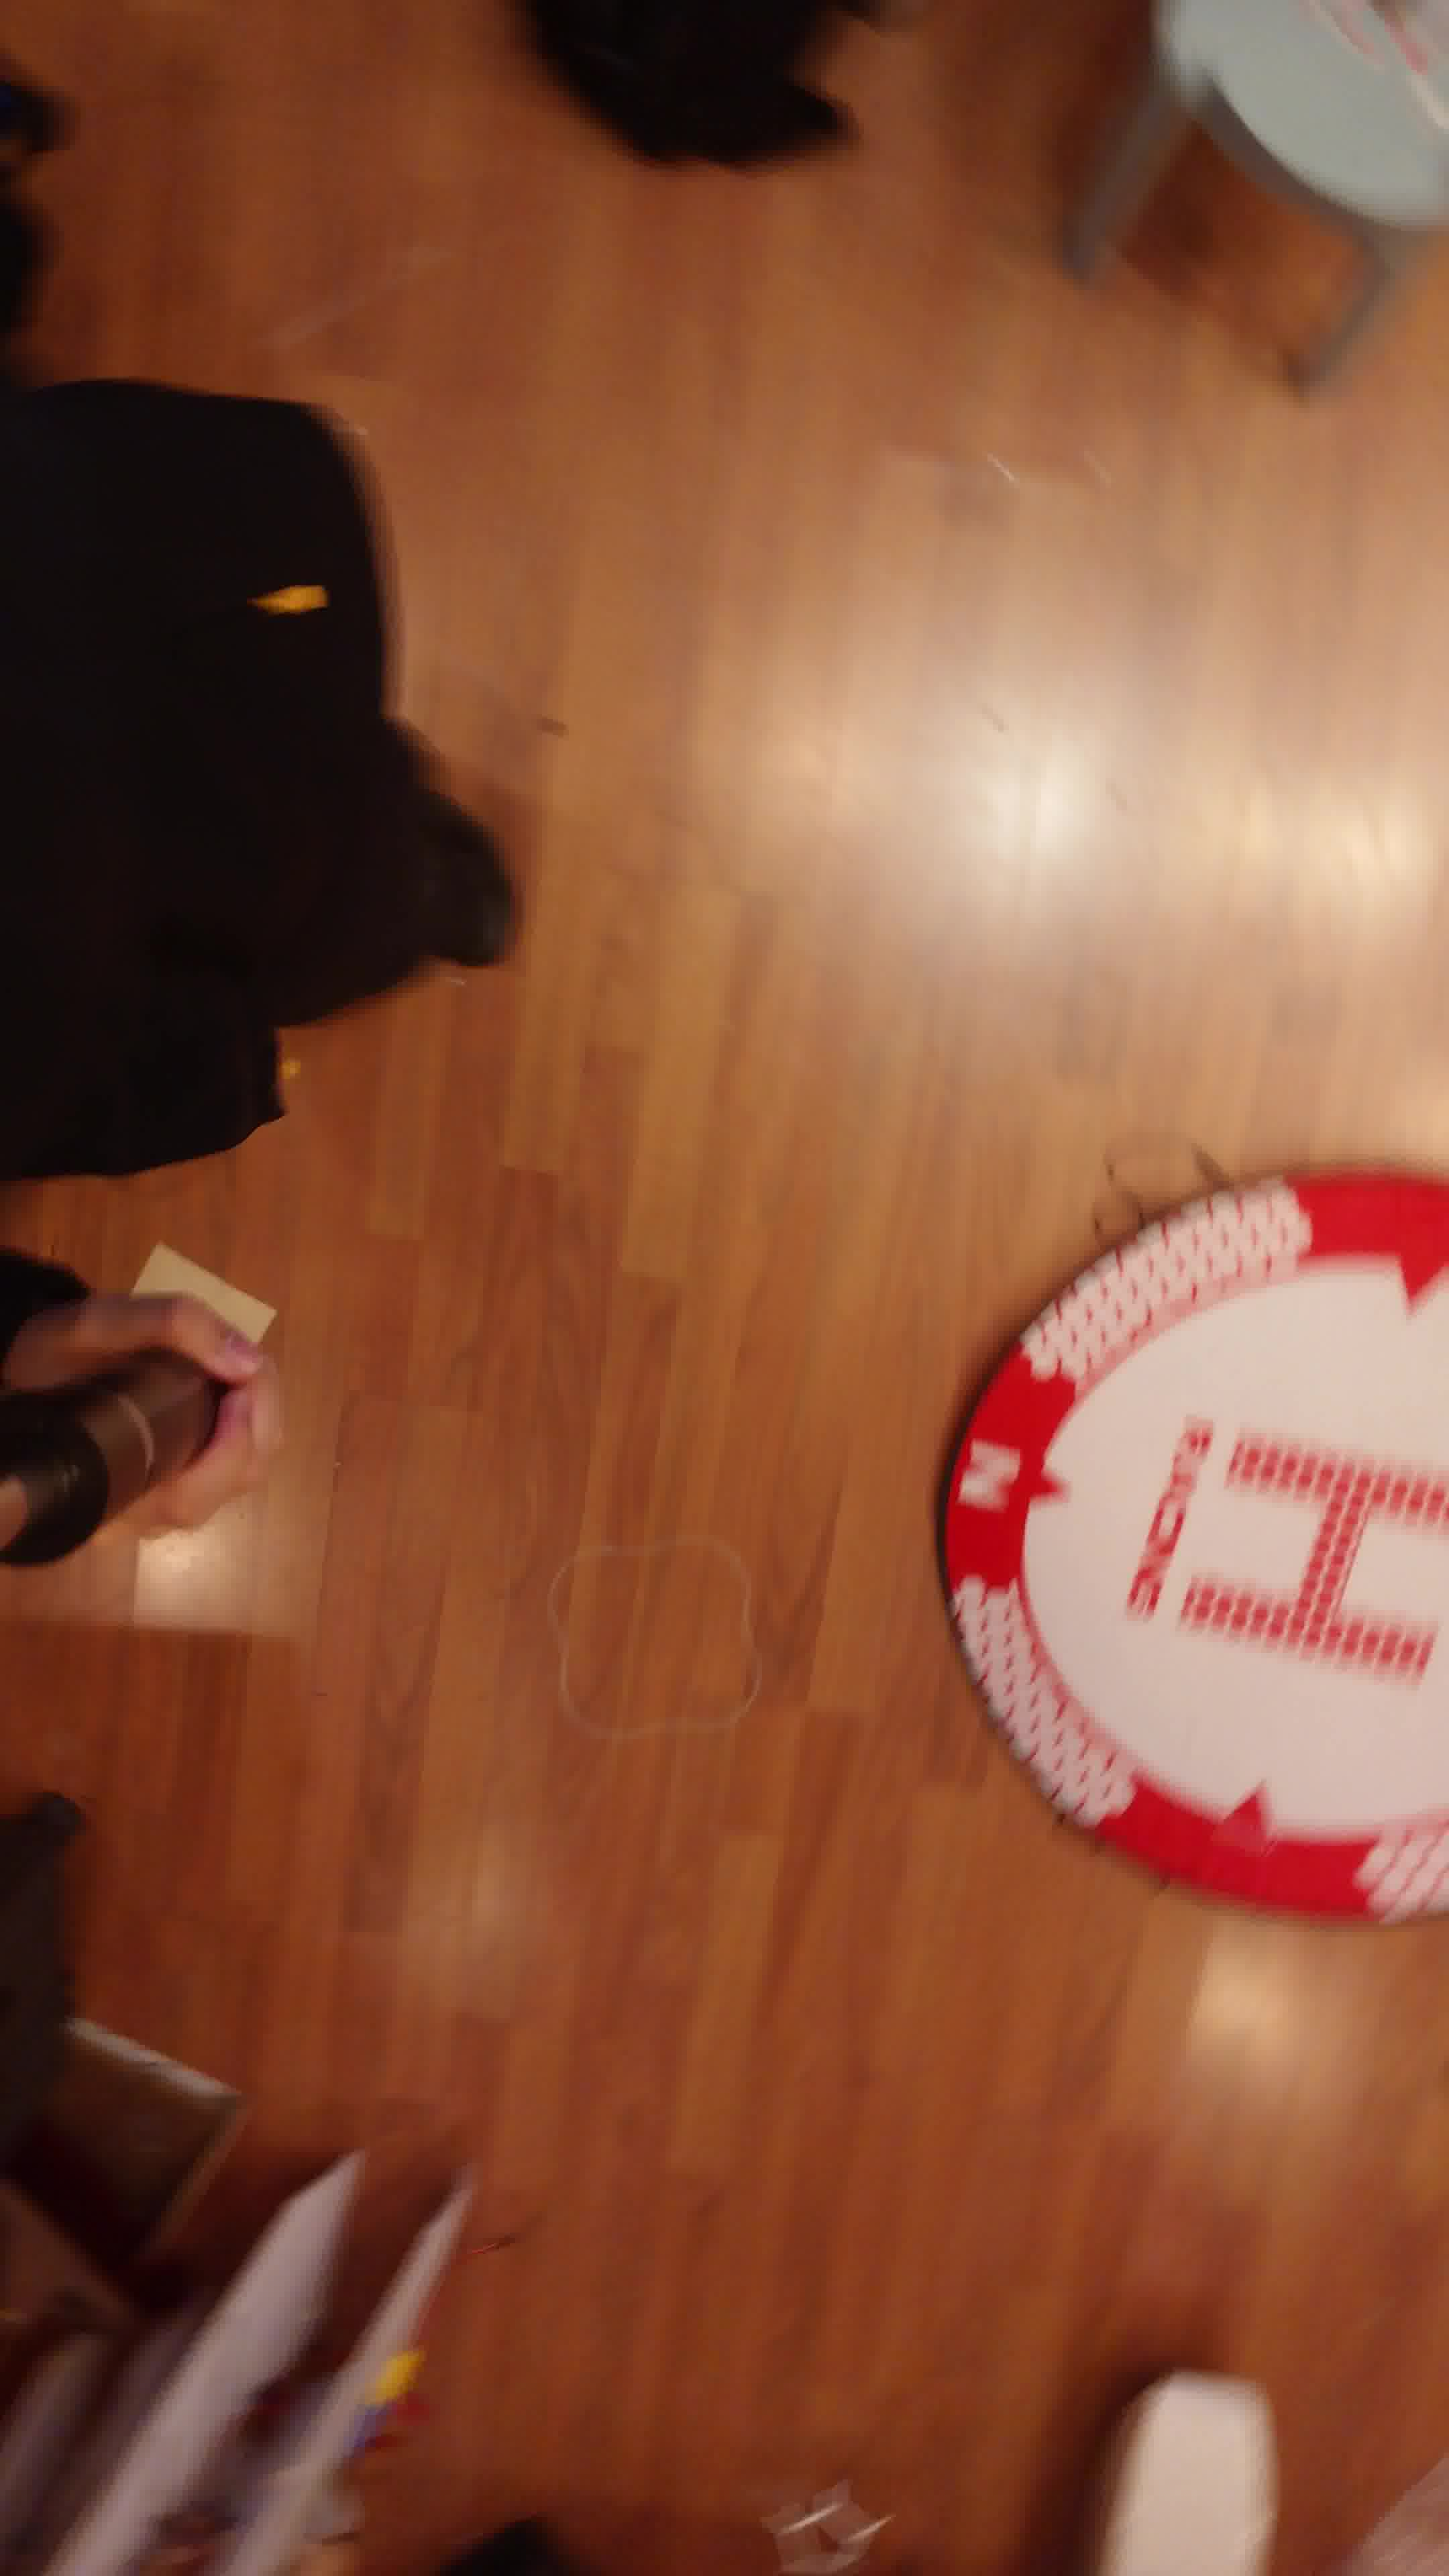H: (1178, 1437, 1449, 1684)
